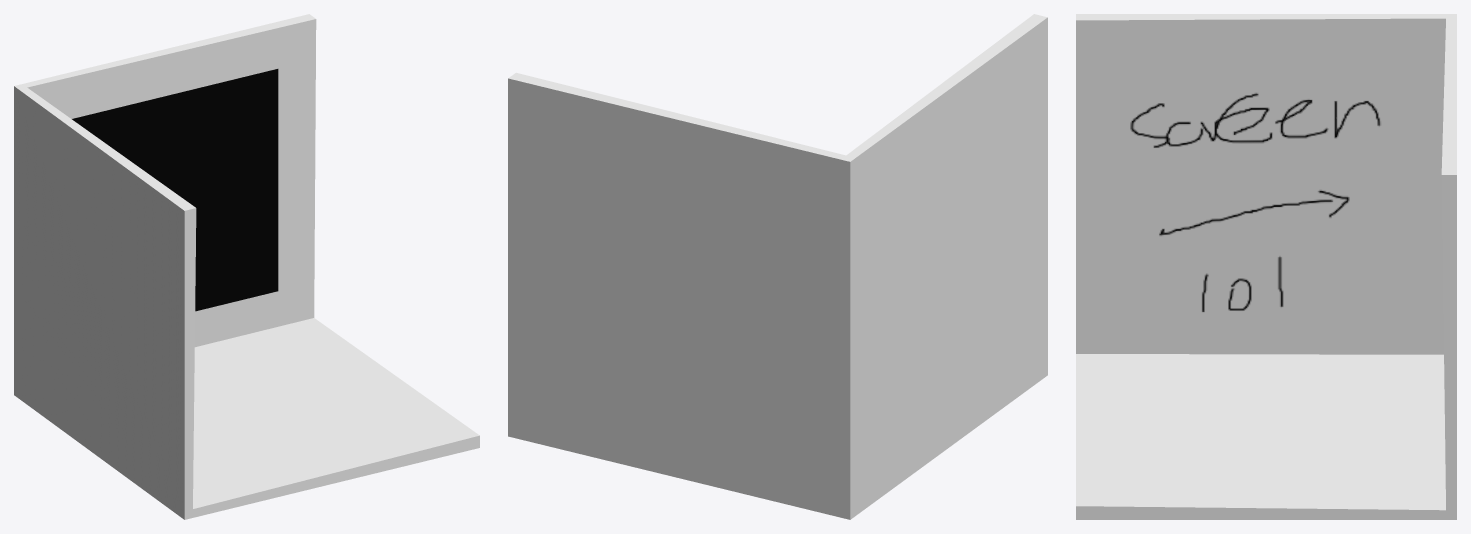
File: Room.glb
3 renders of one model, left to right at view 1: azimuth 30°, elevation 25°; view 2: azimuth 150°, elevation 25°; view 3: azimuth 270°, elevation 25°, orthographic. The views are drawn at different scales.
Parts seen in each view (by area): view 1: Room, MonitorScreen; view 2: Room; view 3: Room.
Part boxes in pixels (x1,y1,x2,y2): Room: [14, 14, 479, 519]; MonitorScreen: [72, 69, 278, 311]; Room: [508, 14, 1047, 519]; Room: [1076, 14, 1456, 519].
Bounding box in the file's own units: 25 × 25 × 25.
2 materials, 1 textured.
